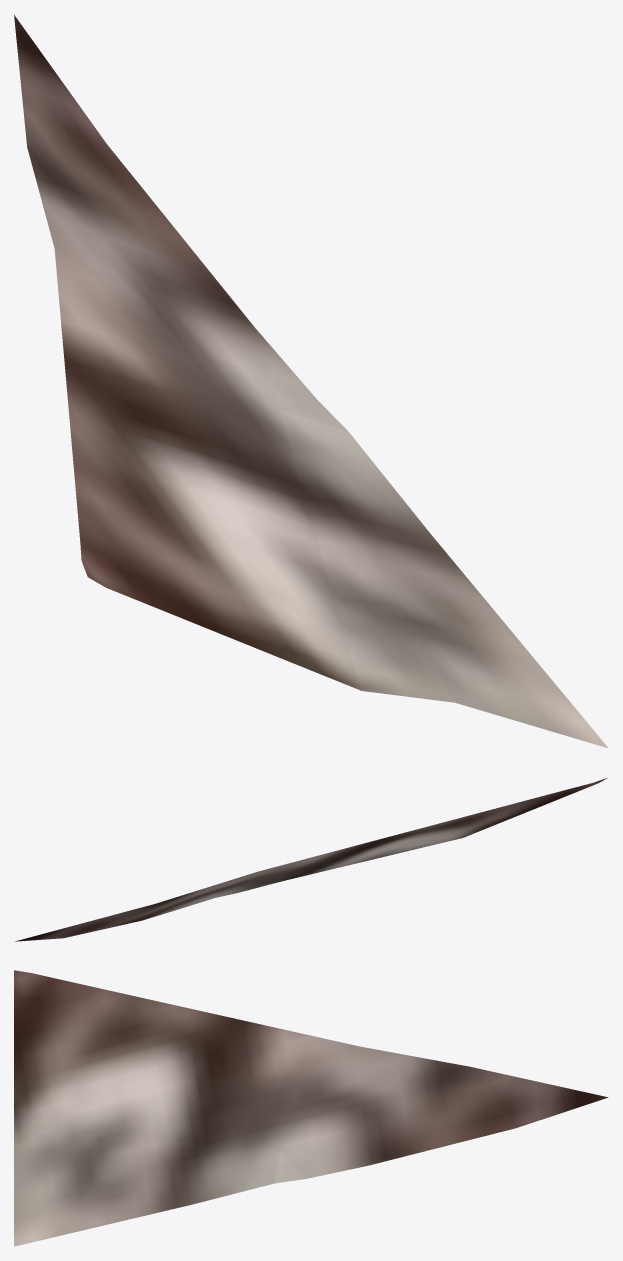
3 views of the same model, one above another, from view 1: azimuth 30°, elevation 25°; view 2: azimuth 150°, elevation 25°; view 3: azimuth 270°, elevation 25° (orthographic). The views are drawn at different scales.
Size of the model in its own units: 0.2869 by 0.1571 by 0.5672.
Materials: 1 (1 with a texture image).
